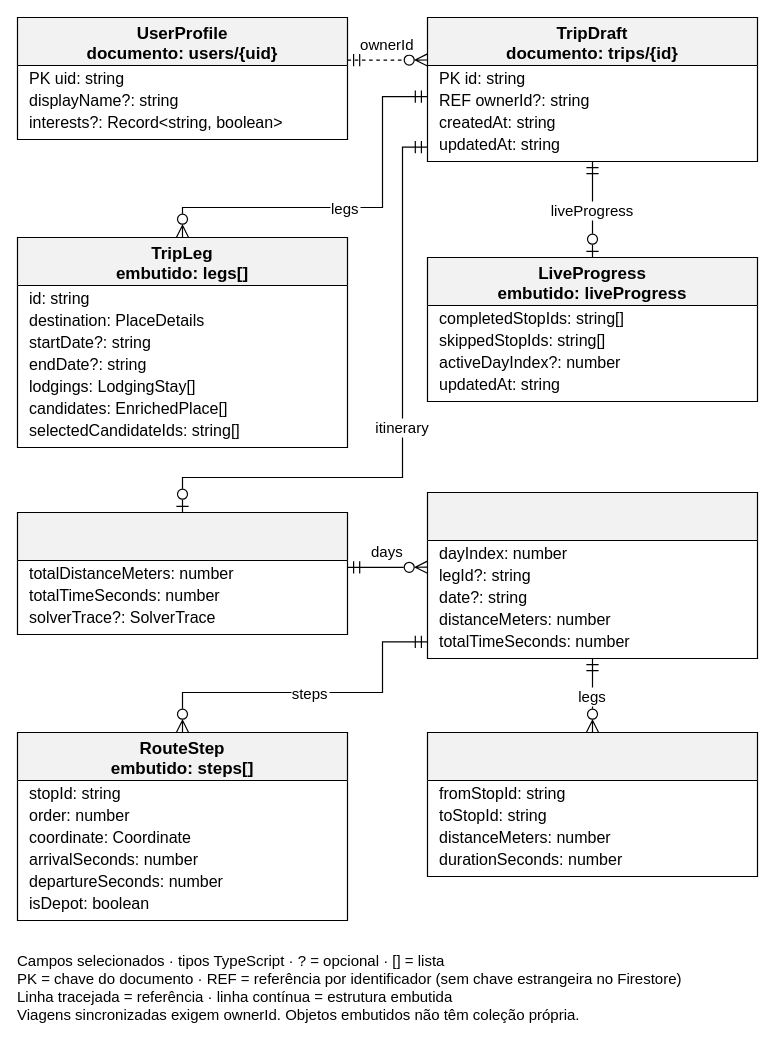
Image size: 776x1055. Some labels were removed from this diagram. The shapes that lost their labels are listed below. From the top down, each one's box as (x1, y1, x2, y2) in pixels, then its label:
(16, 511, 348, 635): ItinerarySolution embutido: itinerary
(426, 491, 758, 659): DayPlan embutido: days[]
(426, 731, 758, 877): RouteLeg embutido: legs[]
